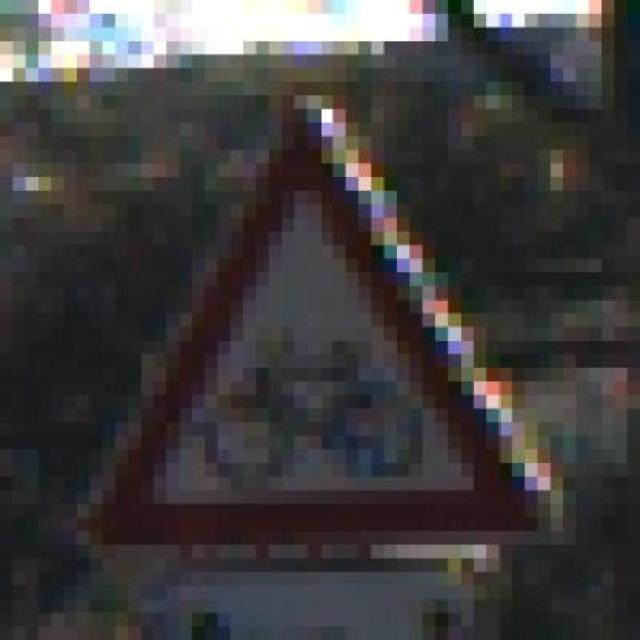CYCLE ROUTE AHEAD WARNING: (77, 81, 563, 558)
